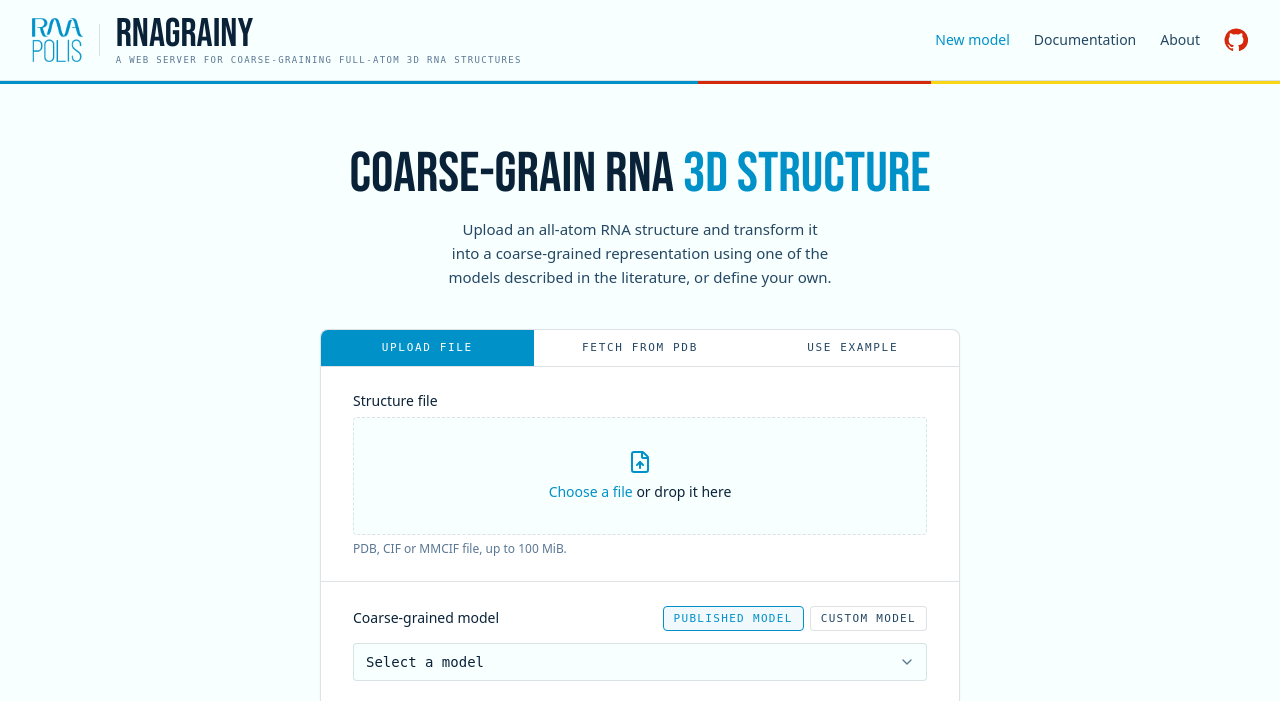
ModelCreator › blocks the model until every bead has atoms
Click the button "Custom model". click: (868, 618)
box: left=810, top=606, right=927, bottom=631
(page scrolled)
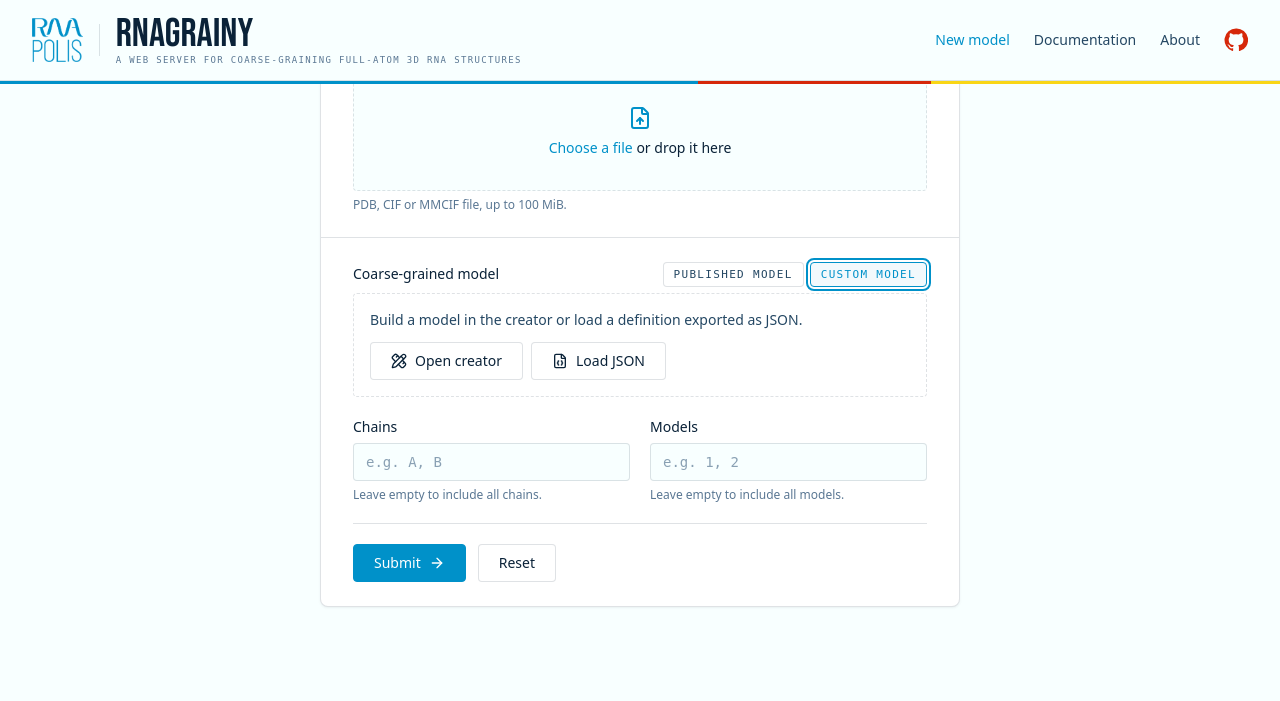
Click the button "Open creator". click: (446, 361)
box: left=370, top=342, right=523, bottom=380
(page scrolled)
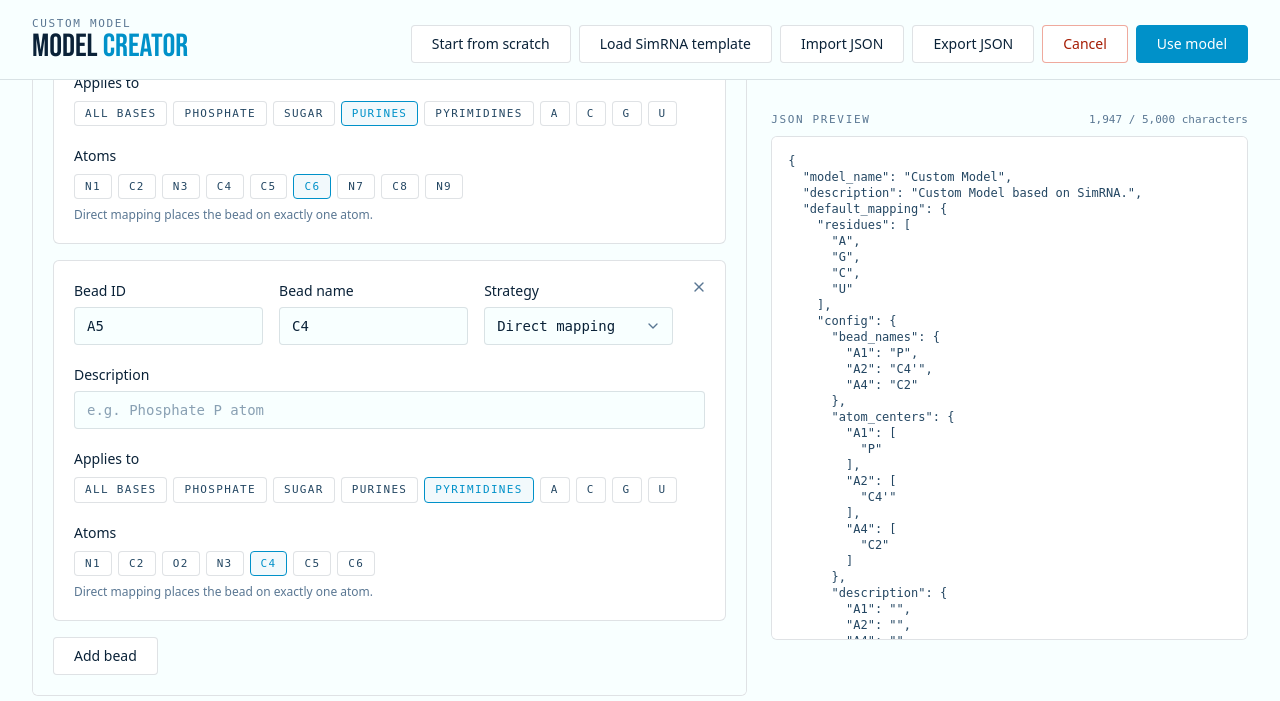
Click the button "Add bead". click: (105, 656)
box: left=53, top=637, right=158, bottom=675
(page scrolled)
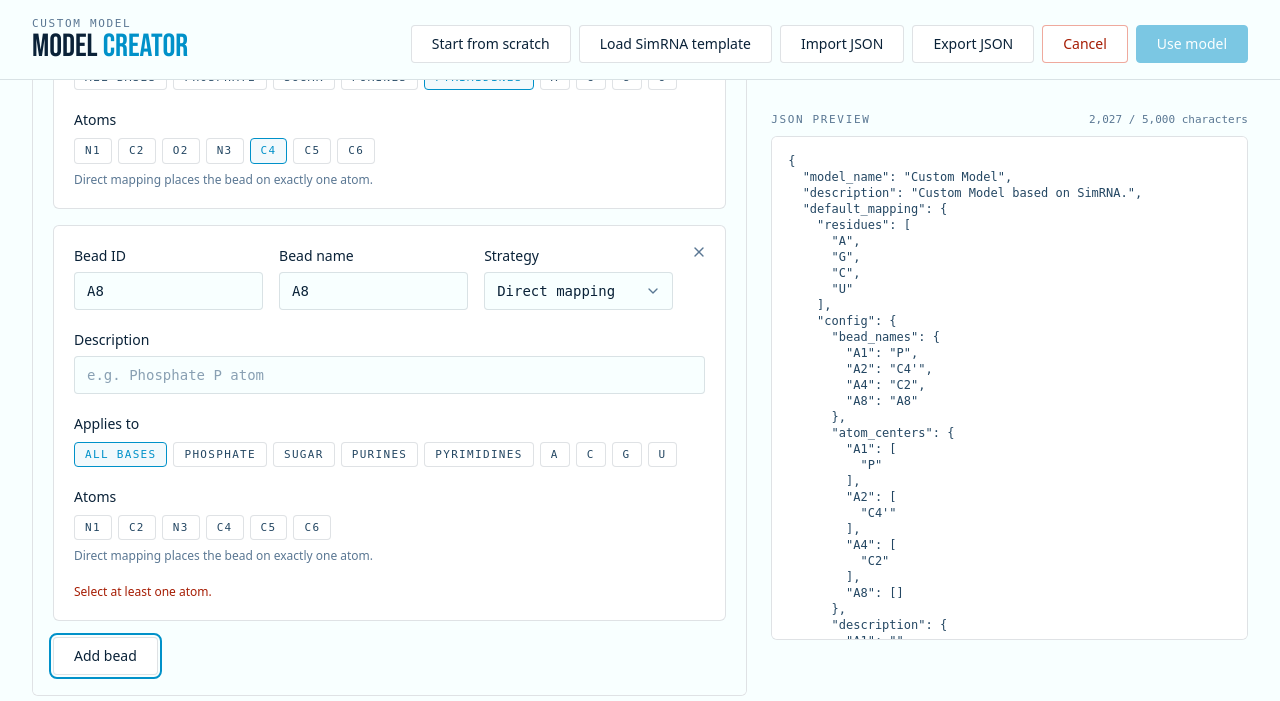
Expected: the list item "Select at least one atom." is shown, left=74, top=583, right=212, bottom=600
Expected: the button "Use model" is disabled, left=1136, top=25, right=1248, bottom=63
Click the button "Phosphate". click: (220, 454)
box: left=174, top=442, right=267, bottom=467
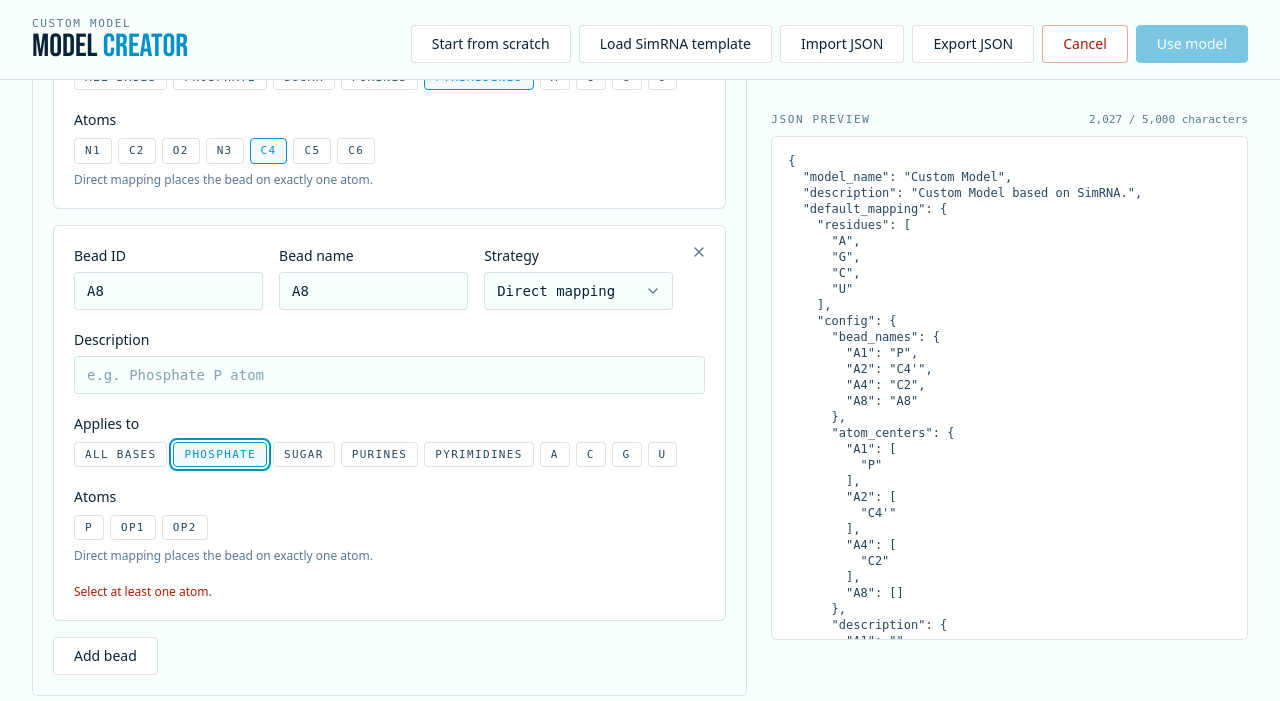
Click the button "P". click: (89, 528)
box: left=74, top=515, right=104, bottom=540
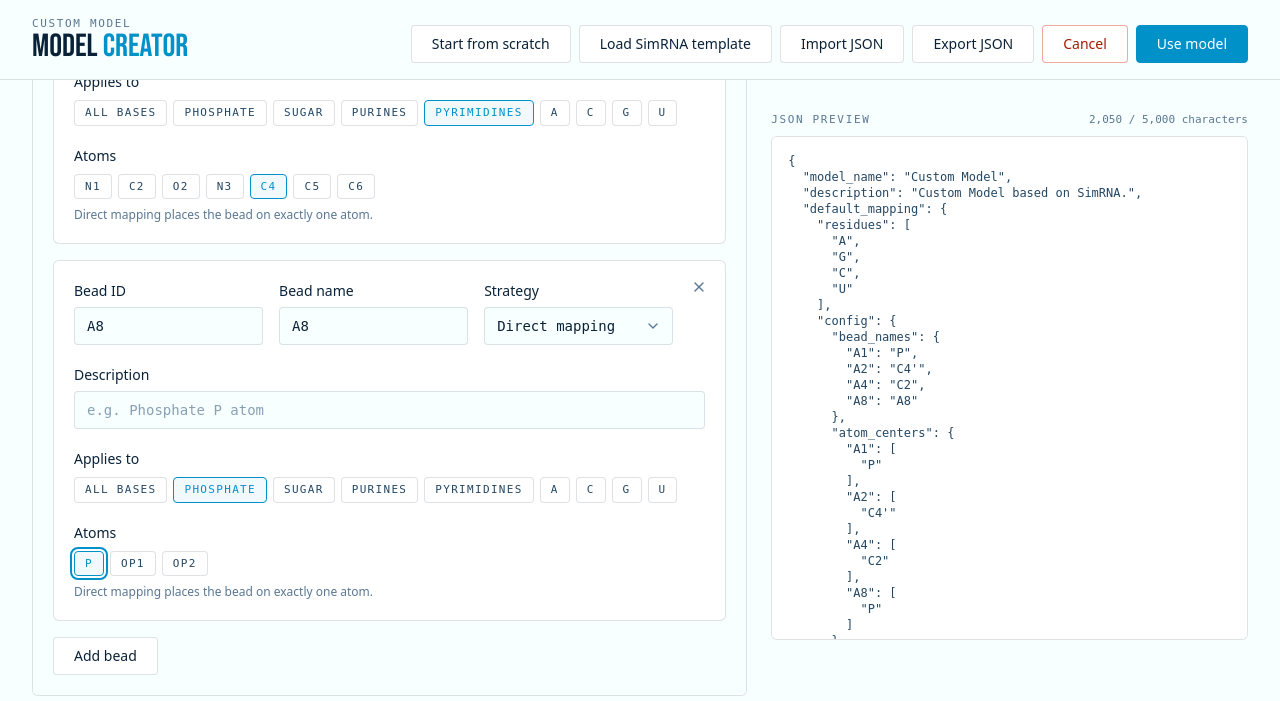
Expected: the button "Use model" is enabled, left=1136, top=25, right=1248, bottom=63
